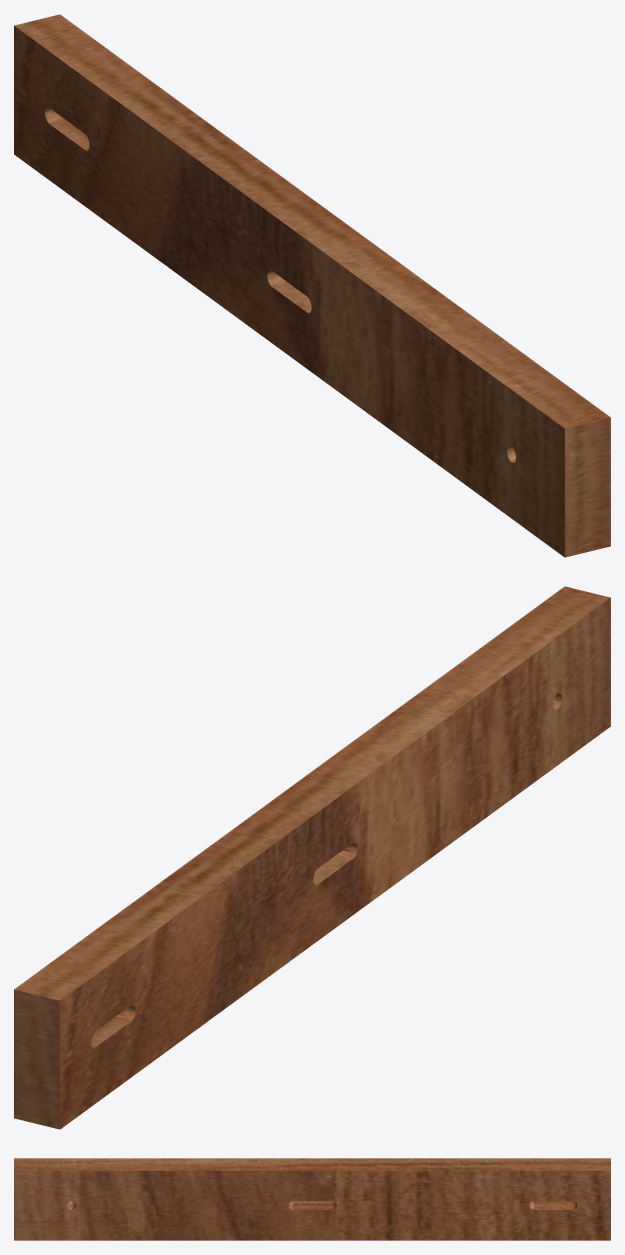
The model's file is original-806.obj.
The picture shows the model from 3 angles, top to bottom: view 1: azimuth 30°, elevation 25°; view 2: azimuth 150°, elevation 25°; view 3: azimuth 270°, elevation 25°; orthographic projection. The views are drawn at different scales.
Parts seen in each view (by area): view 1: mesh287/mesh287-geometry#mesh287-geometry; view 2: mesh287/mesh287-geometry#mesh287-geometry; view 3: mesh287/mesh287-geometry#mesh287-geometry.
Part boxes in pixels (x1,y1,x2,y2): mesh287/mesh287-geometry#mesh287-geometry: (14, 14, 610, 557); mesh287/mesh287-geometry#mesh287-geometry: (14, 586, 610, 1129); mesh287/mesh287-geometry#mesh287-geometry: (14, 1158, 610, 1240).
Bounding box in the file's own units: 0.0213 × 0.0569 × 0.441.
